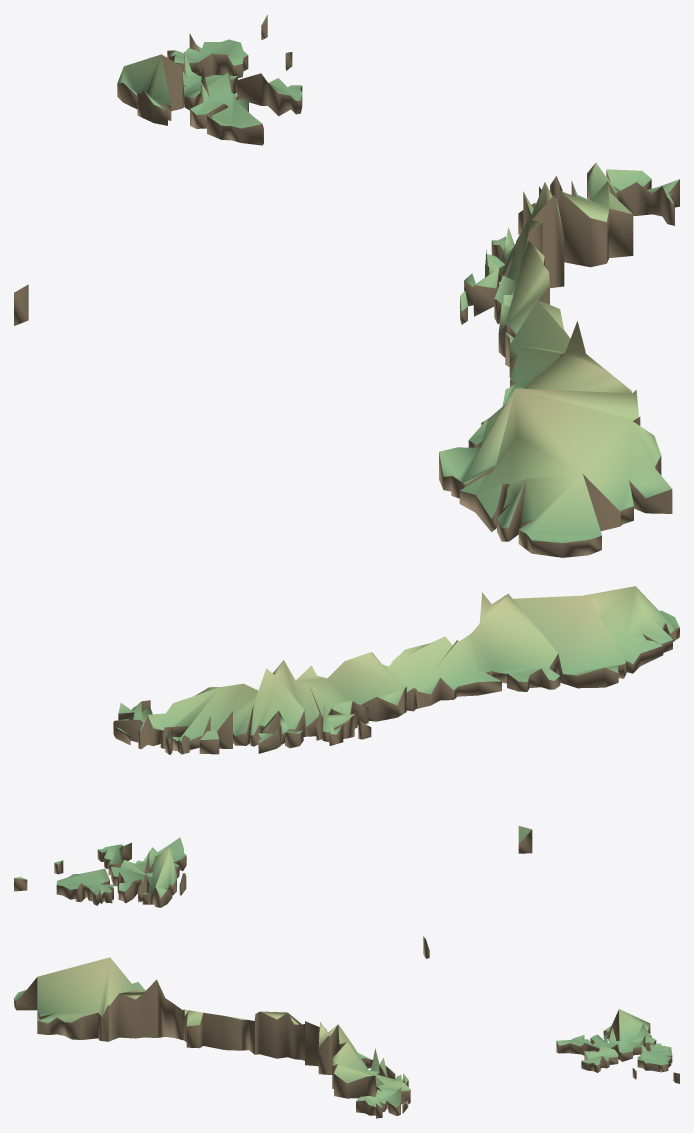
The model's file is NOR.glb.
3 views of the same model, one above another, from view 1: azimuth 30°, elevation 25°; view 2: azimuth 150°, elevation 25°; view 3: azimuth 270°, elevation 25° (orthographic). The views are drawn at different scales.
Visible parts, largest first — view 1: NOR; view 2: NOR; view 3: NOR.
Part boxes in pixels (bbox=[...]): NOR: bbox=[14, 14, 679, 557]; NOR: bbox=[14, 586, 679, 907]; NOR: bbox=[14, 936, 679, 1118].
Bounding box in the file's own units: 1.04 × 0.1736 × 1.78.
